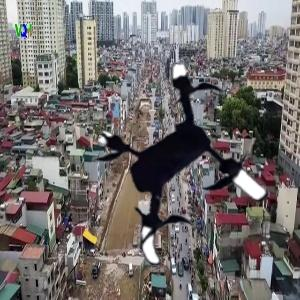drone: (82, 67, 290, 275)
